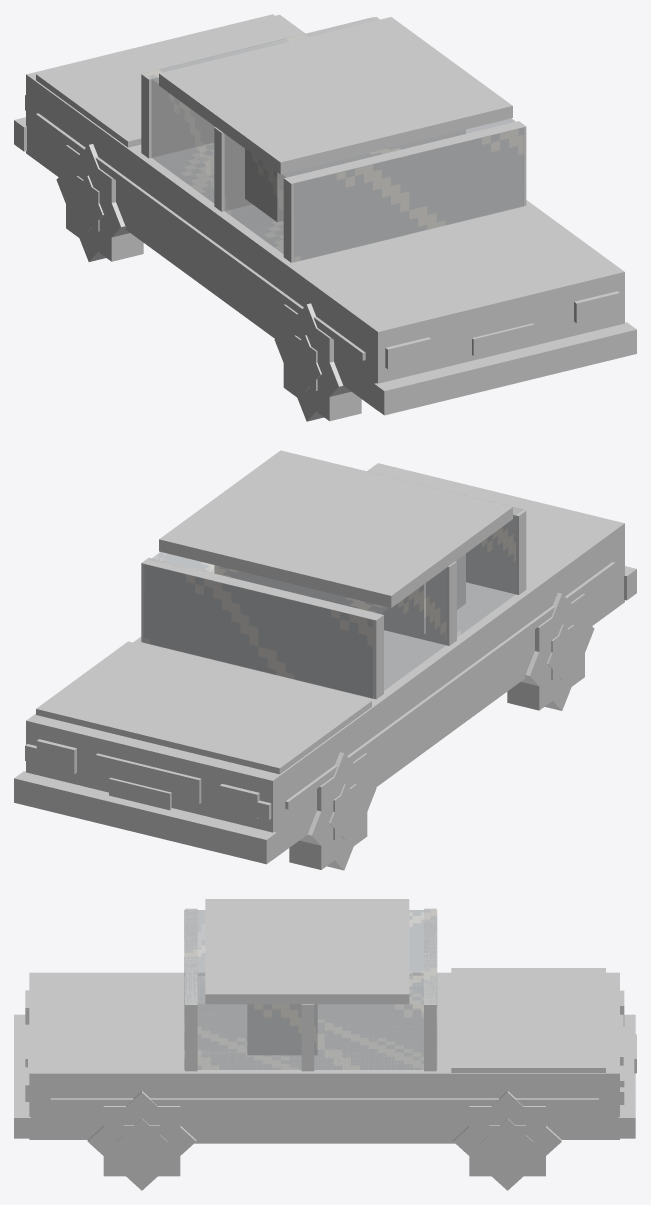
The model's file is car_a_police_navy.glb.
3 renders of one model, top to bottom at view 1: azimuth 30°, elevation 25°; view 2: azimuth 150°, elevation 25°; view 3: azimuth 270°, elevation 25°, orthographic. The views are drawn at different scales.
Visible parts, largest first — view 1: gas_station_town; view 2: gas_station_town; view 3: gas_station_town.
Boxes of the visible parts, x1,y1,x2,y2 form: gas_station_town: [14, 14, 636, 421]; gas_station_town: [14, 450, 636, 870]; gas_station_town: [14, 899, 636, 1190].
Bounding box in the file's own units: 1.78 × 1.51 × 4.43.
Materials: 2 (1 with a texture image).
